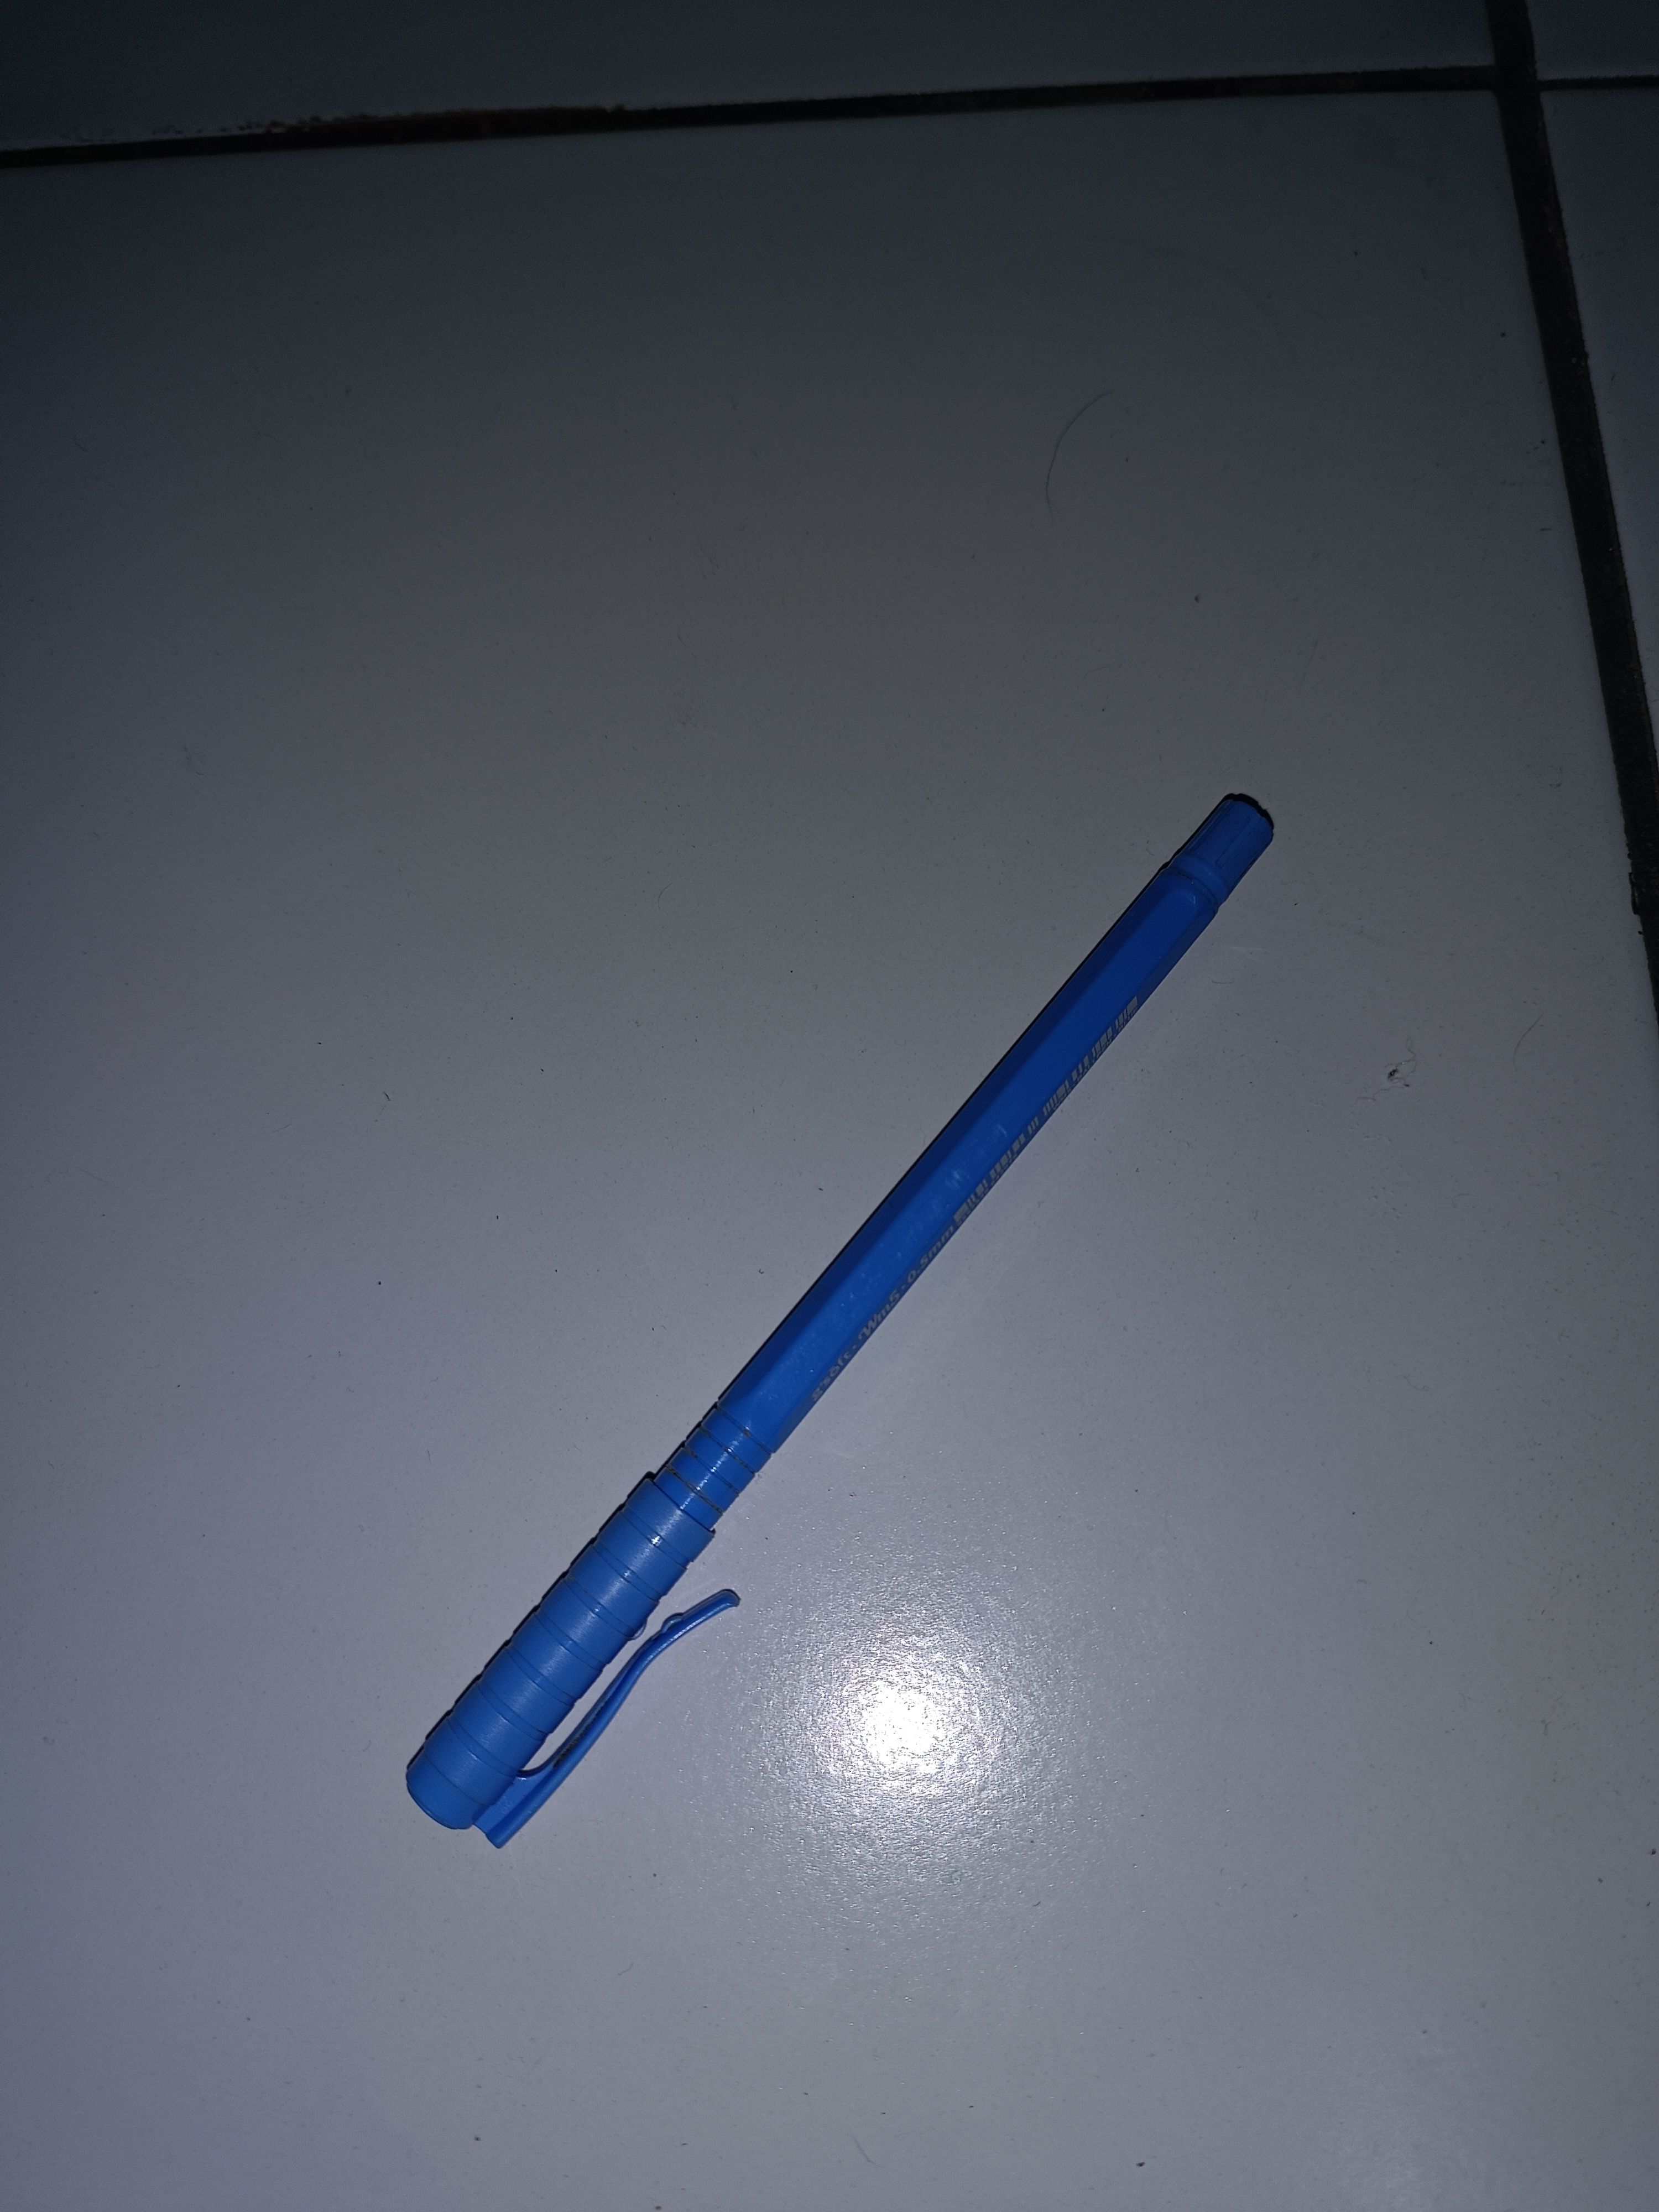Pen: (235, 641, 1382, 2020)
